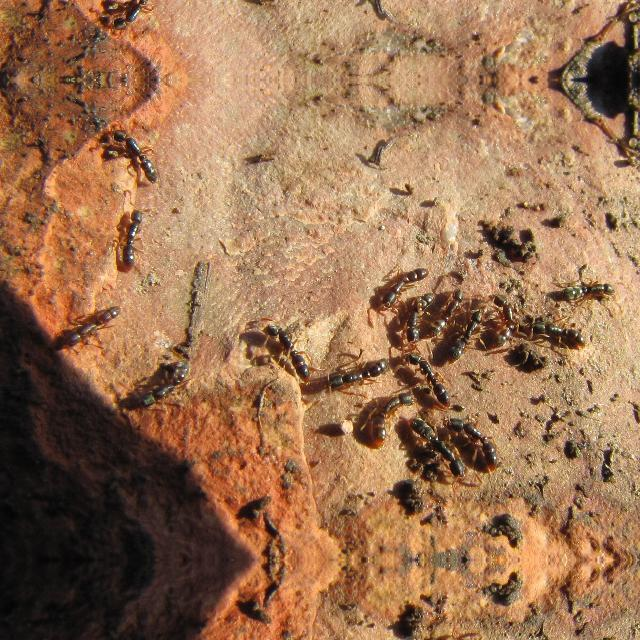Ponera: (128, 348, 196, 424), (356, 374, 422, 450), (98, 118, 166, 186), (410, 412, 472, 476), (442, 409, 506, 471), (408, 342, 464, 408), (58, 296, 125, 350), (265, 322, 317, 382), (374, 258, 436, 308), (106, 202, 152, 268), (96, 0, 166, 42), (446, 301, 489, 369), (528, 306, 582, 354), (396, 282, 436, 346), (326, 352, 392, 388), (491, 289, 525, 355), (560, 270, 616, 310), (431, 278, 463, 340)
